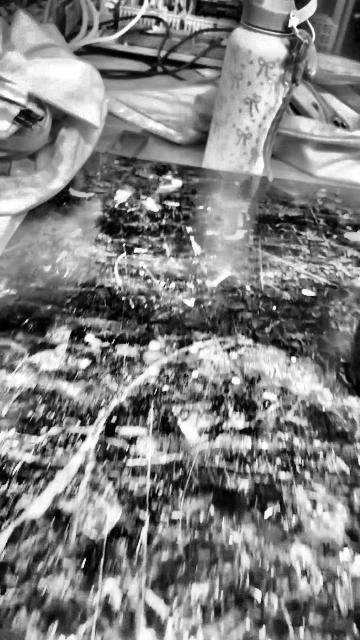pot: (347, 323, 359, 395)
